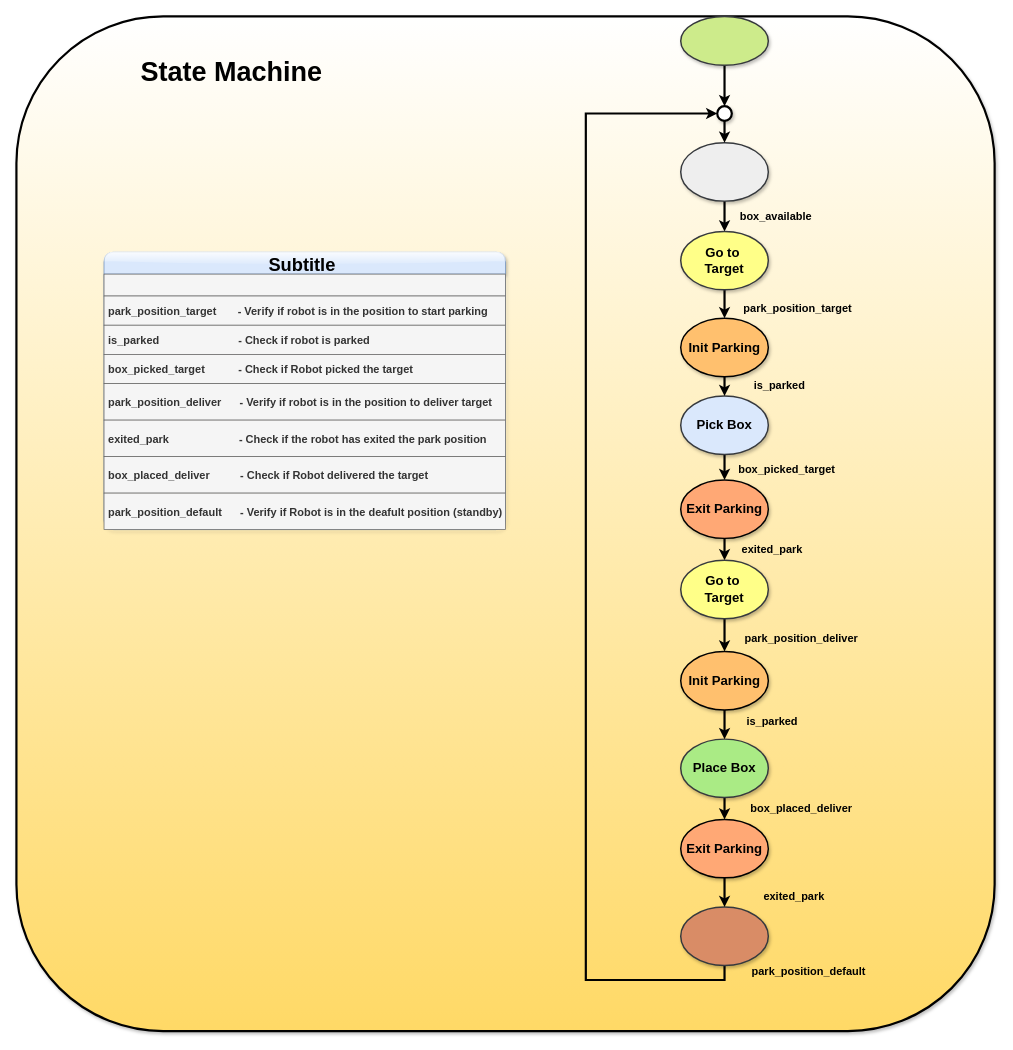
Image size: 1013x1050. Some labels were removed from this diagram. The shapes that lost their labels are listed below. From the top down, each one's centre as x and y in pixels, then its label:
At (x=725, y=41): "START".
At (x=725, y=173): "IDLE".
At (x=304, y=284): "box_available - Check if there is a box to be picked".
At (x=725, y=937): "Go to Default Position".
